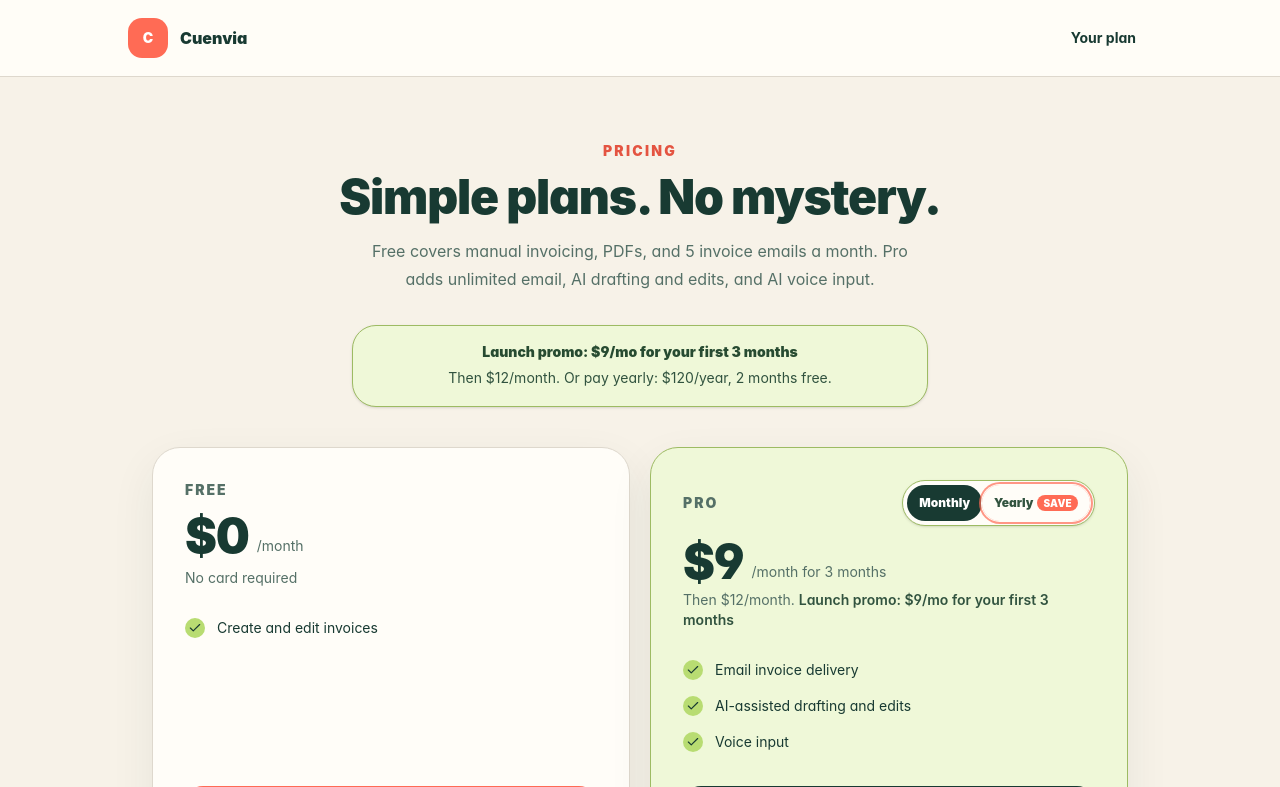
Scenario: PricingPage › toggles yearly pricing on a single Pro card
The width and height of the screenshot is (1280, 787).
Expected: the text "$9" is shown, [683, 538, 743, 586]
Click the button "Yearly".
click(1036, 503)  # box [982, 485, 1090, 521]
(page scrolled)
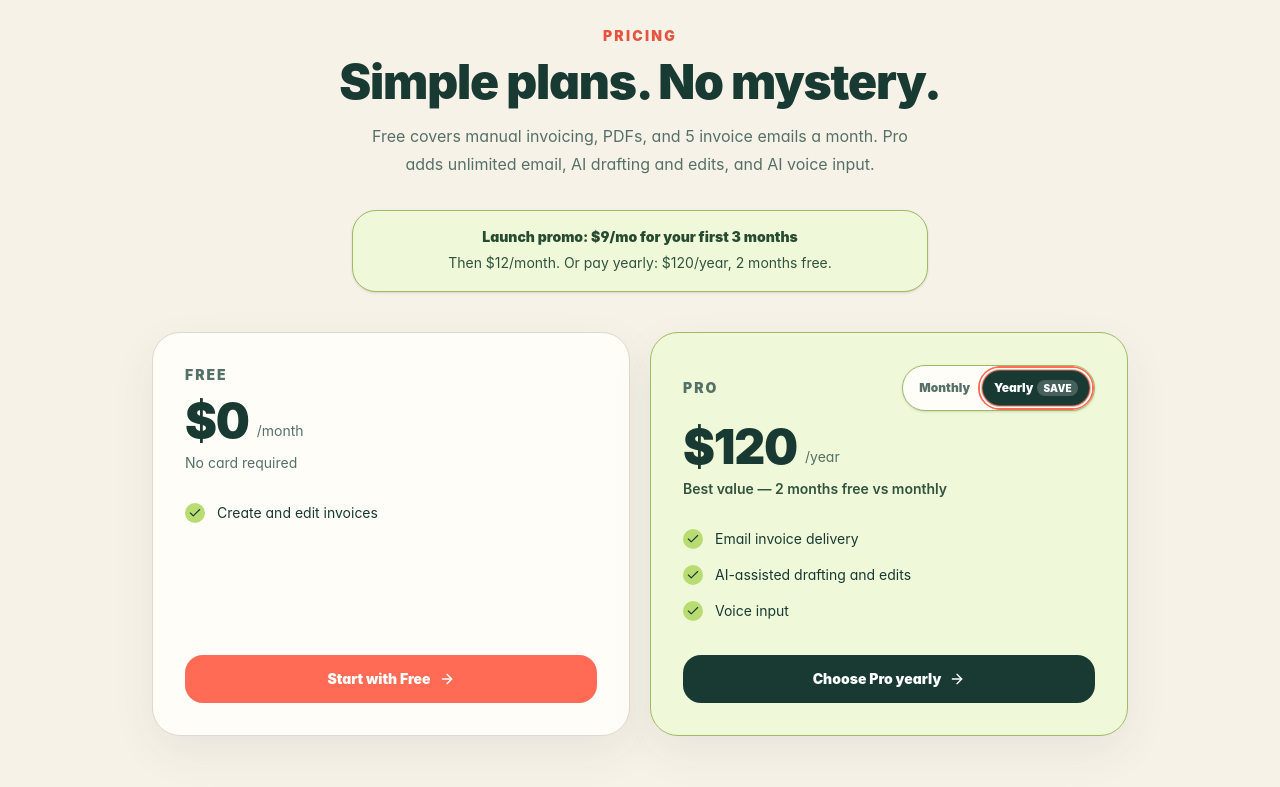
Expected: the text "$120" is shown, [683, 423, 797, 471]
Expected: the button "Choose Pro yearly" is shown, [683, 655, 1095, 703]
